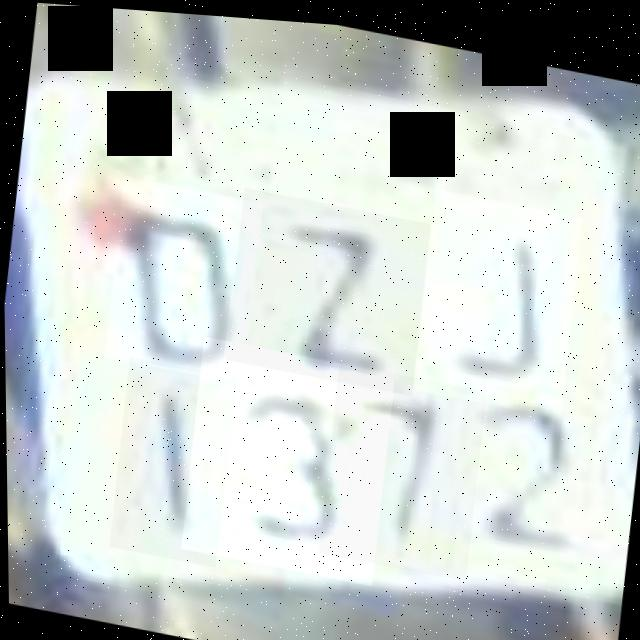1: (105, 353, 237, 565)
2: (423, 352, 621, 583)
3: (176, 331, 396, 582)
7: (314, 356, 487, 575)
J: (410, 180, 584, 411)
O: (101, 172, 264, 382)
Z: (222, 182, 432, 391)
